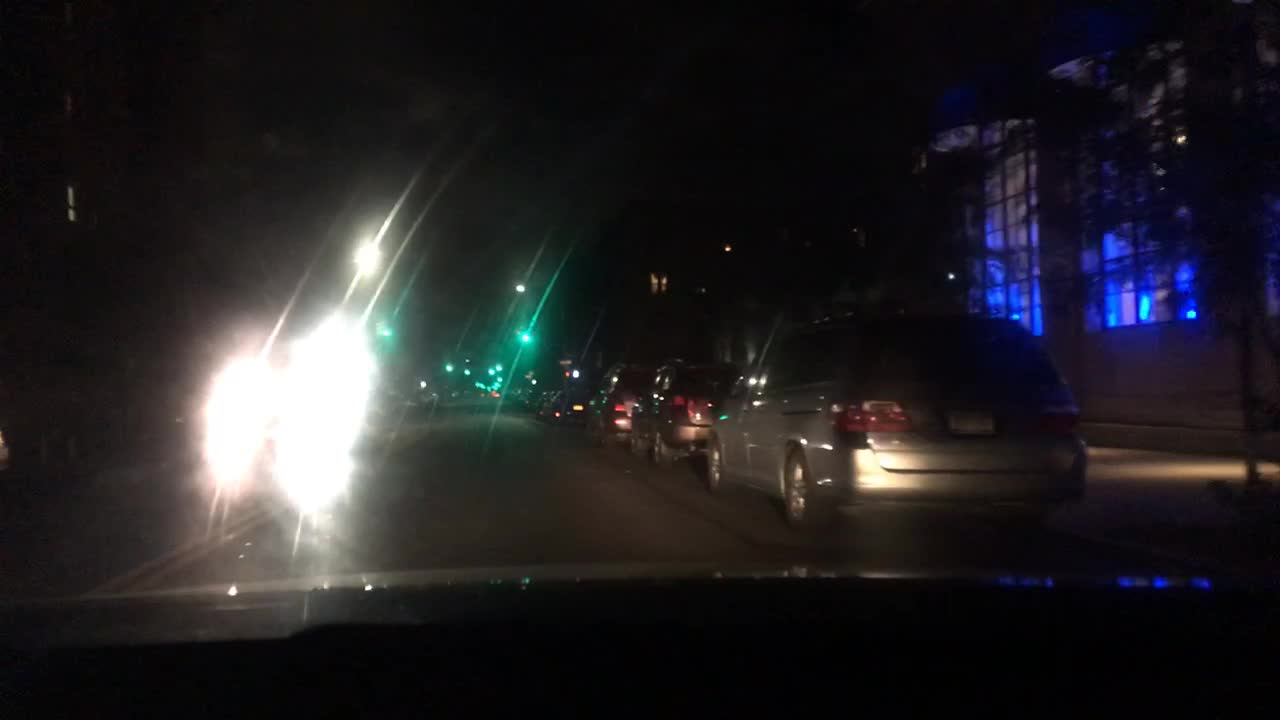car: (707, 306, 1087, 543), (620, 358, 737, 471), (575, 363, 650, 442), (366, 383, 429, 430), (543, 388, 588, 419), (507, 387, 533, 410), (531, 392, 546, 415)
traffic light: (378, 318, 387, 335), (530, 325, 537, 344), (514, 325, 522, 341), (388, 318, 395, 335), (523, 326, 529, 343), (371, 315, 377, 332)
